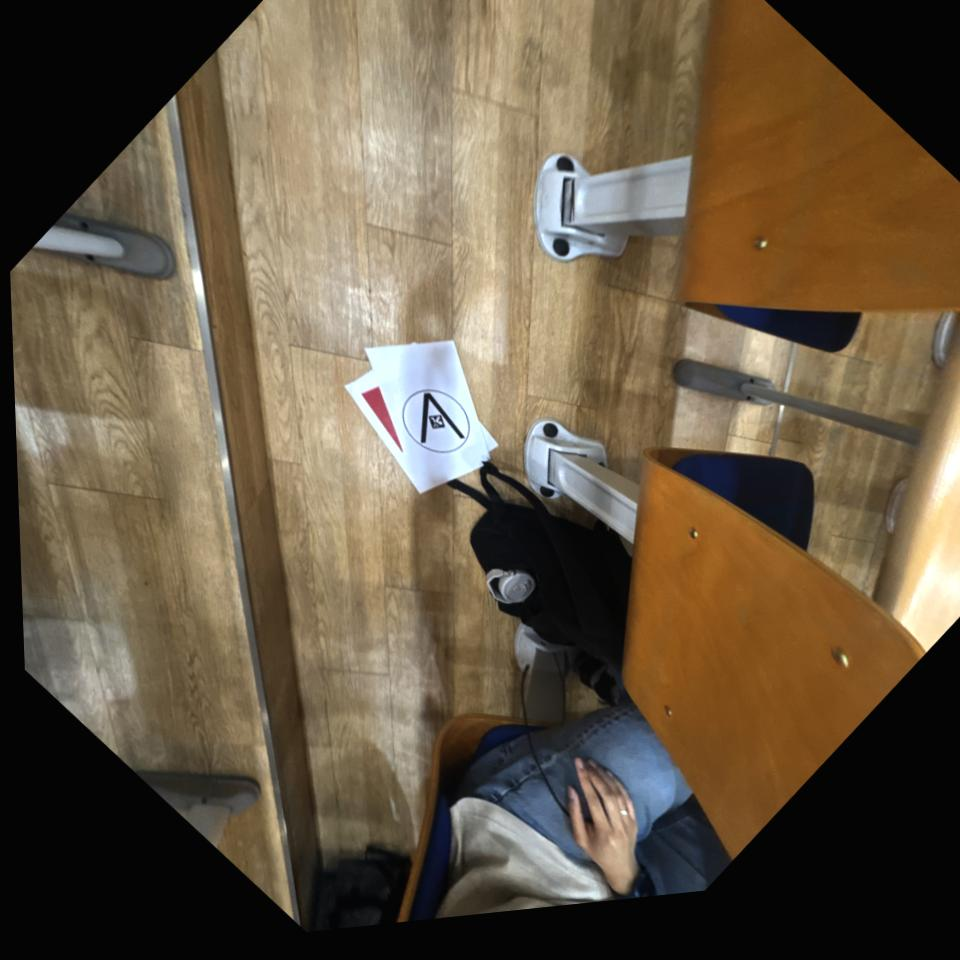vertiport: (382, 363, 490, 479)
